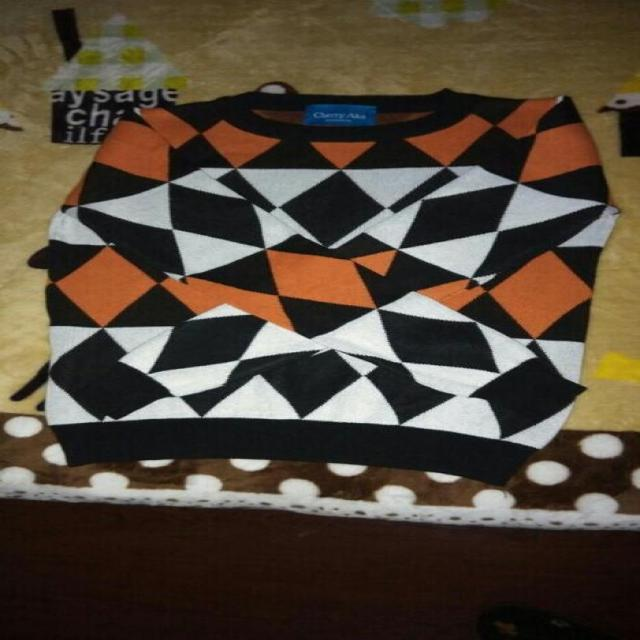long sleeve top: (48, 213, 546, 483), (131, 87, 557, 251)
